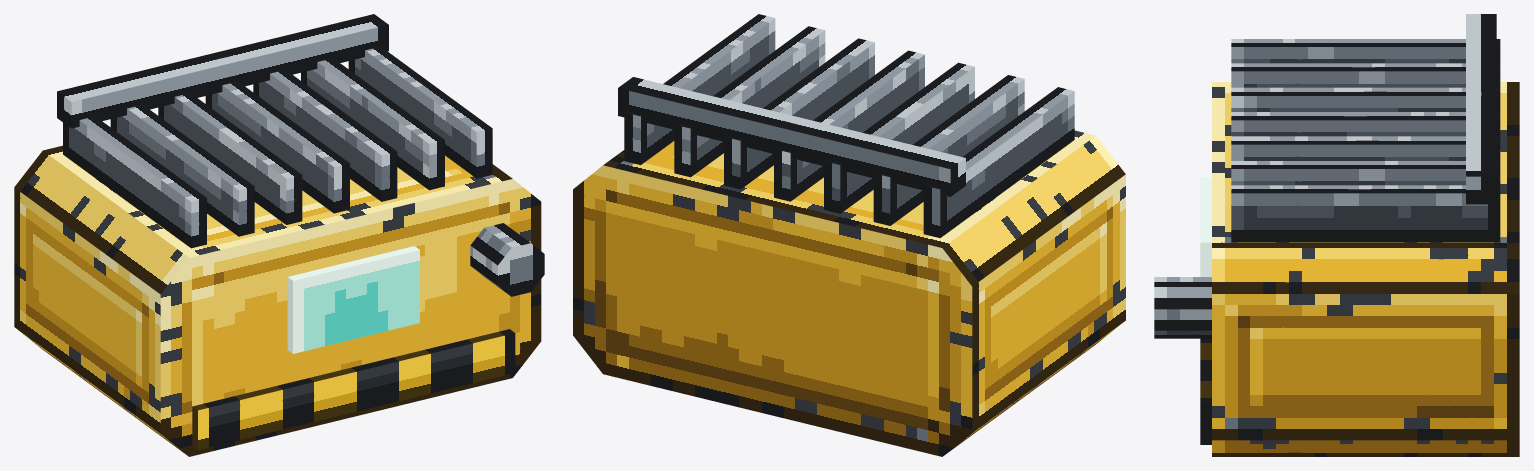
File: cy_power.glb
The picture shows the model from 3 angles, left to right: view 1: azimuth 30°, elevation 25°; view 2: azimuth 150°, elevation 25°; view 3: azimuth 270°, elevation 25°; orthographic projection. The views are drawn at different scales.
Visible parts, largest first — view 1: cell, haz, handle, gauge, fin0, fin2, fin4, fin1, fin3, fin6, fin5, port; view 2: cell, handle, fin0, fin1, fin6, fin5, fin4, fin2, fin3; view 3: cell, fin6, fin1, fin4, fin0, fin2, fin3, fin5, handle, port, haz, gauge.
Boxes of the visible parts, bbox=[...] form: cell: bbox=[14, 145, 541, 456]; haz: bbox=[192, 329, 515, 449]; handle: bbox=[57, 14, 388, 128]; gauge: bbox=[287, 246, 419, 353]; fin0: bbox=[63, 116, 206, 248]; fin2: bbox=[158, 93, 302, 224]; fin4: bbox=[253, 70, 397, 201]; fin1: bbox=[110, 104, 254, 236]; fin3: bbox=[205, 81, 349, 213]; fin6: bbox=[348, 46, 492, 178]; fin5: bbox=[301, 58, 444, 190]; port: bbox=[470, 223, 544, 296]; cell: bbox=[573, 130, 1125, 456]; handle: bbox=[618, 77, 965, 196]; fin0: bbox=[923, 87, 1074, 237]; fin1: bbox=[873, 75, 1024, 225]; fin6: bbox=[624, 14, 775, 164]; fin5: bbox=[674, 26, 825, 177]; fin4: bbox=[724, 38, 874, 189]; fin2: bbox=[824, 62, 974, 213]; fin3: bbox=[774, 50, 924, 201]; cell: bbox=[1212, 82, 1519, 456]; fin6: bbox=[1231, 185, 1500, 242]; fin1: bbox=[1231, 63, 1500, 87]; fin4: bbox=[1231, 136, 1500, 160]; fin0: bbox=[1231, 39, 1500, 63]; fin2: bbox=[1231, 87, 1500, 111]; fin3: bbox=[1231, 112, 1500, 136]; fin5: bbox=[1231, 161, 1500, 185]; handle: bbox=[1466, 14, 1496, 204]; port: bbox=[1154, 277, 1211, 338]; haz: bbox=[1200, 338, 1211, 444]; gauge: bbox=[1200, 177, 1211, 276].
Bounding box in the file's own units: 12 × 8 × 9.5.
Materials: 1 (1 with a texture image).
